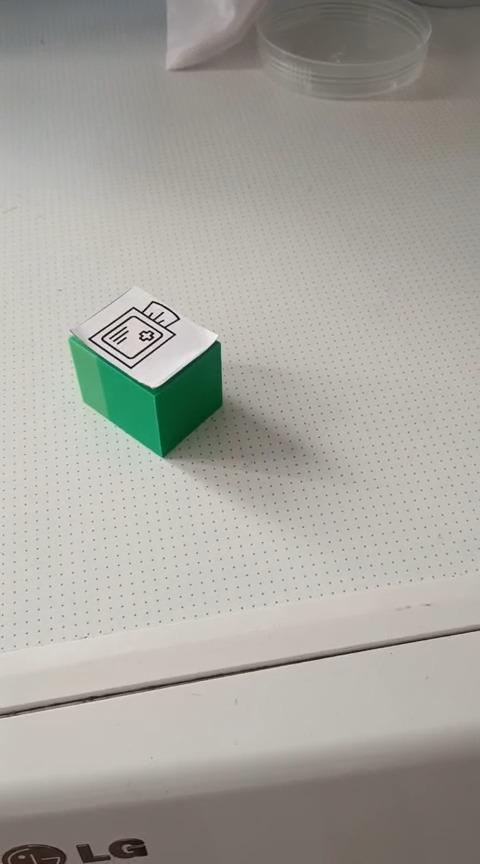Gauze: (66, 284, 223, 458)
